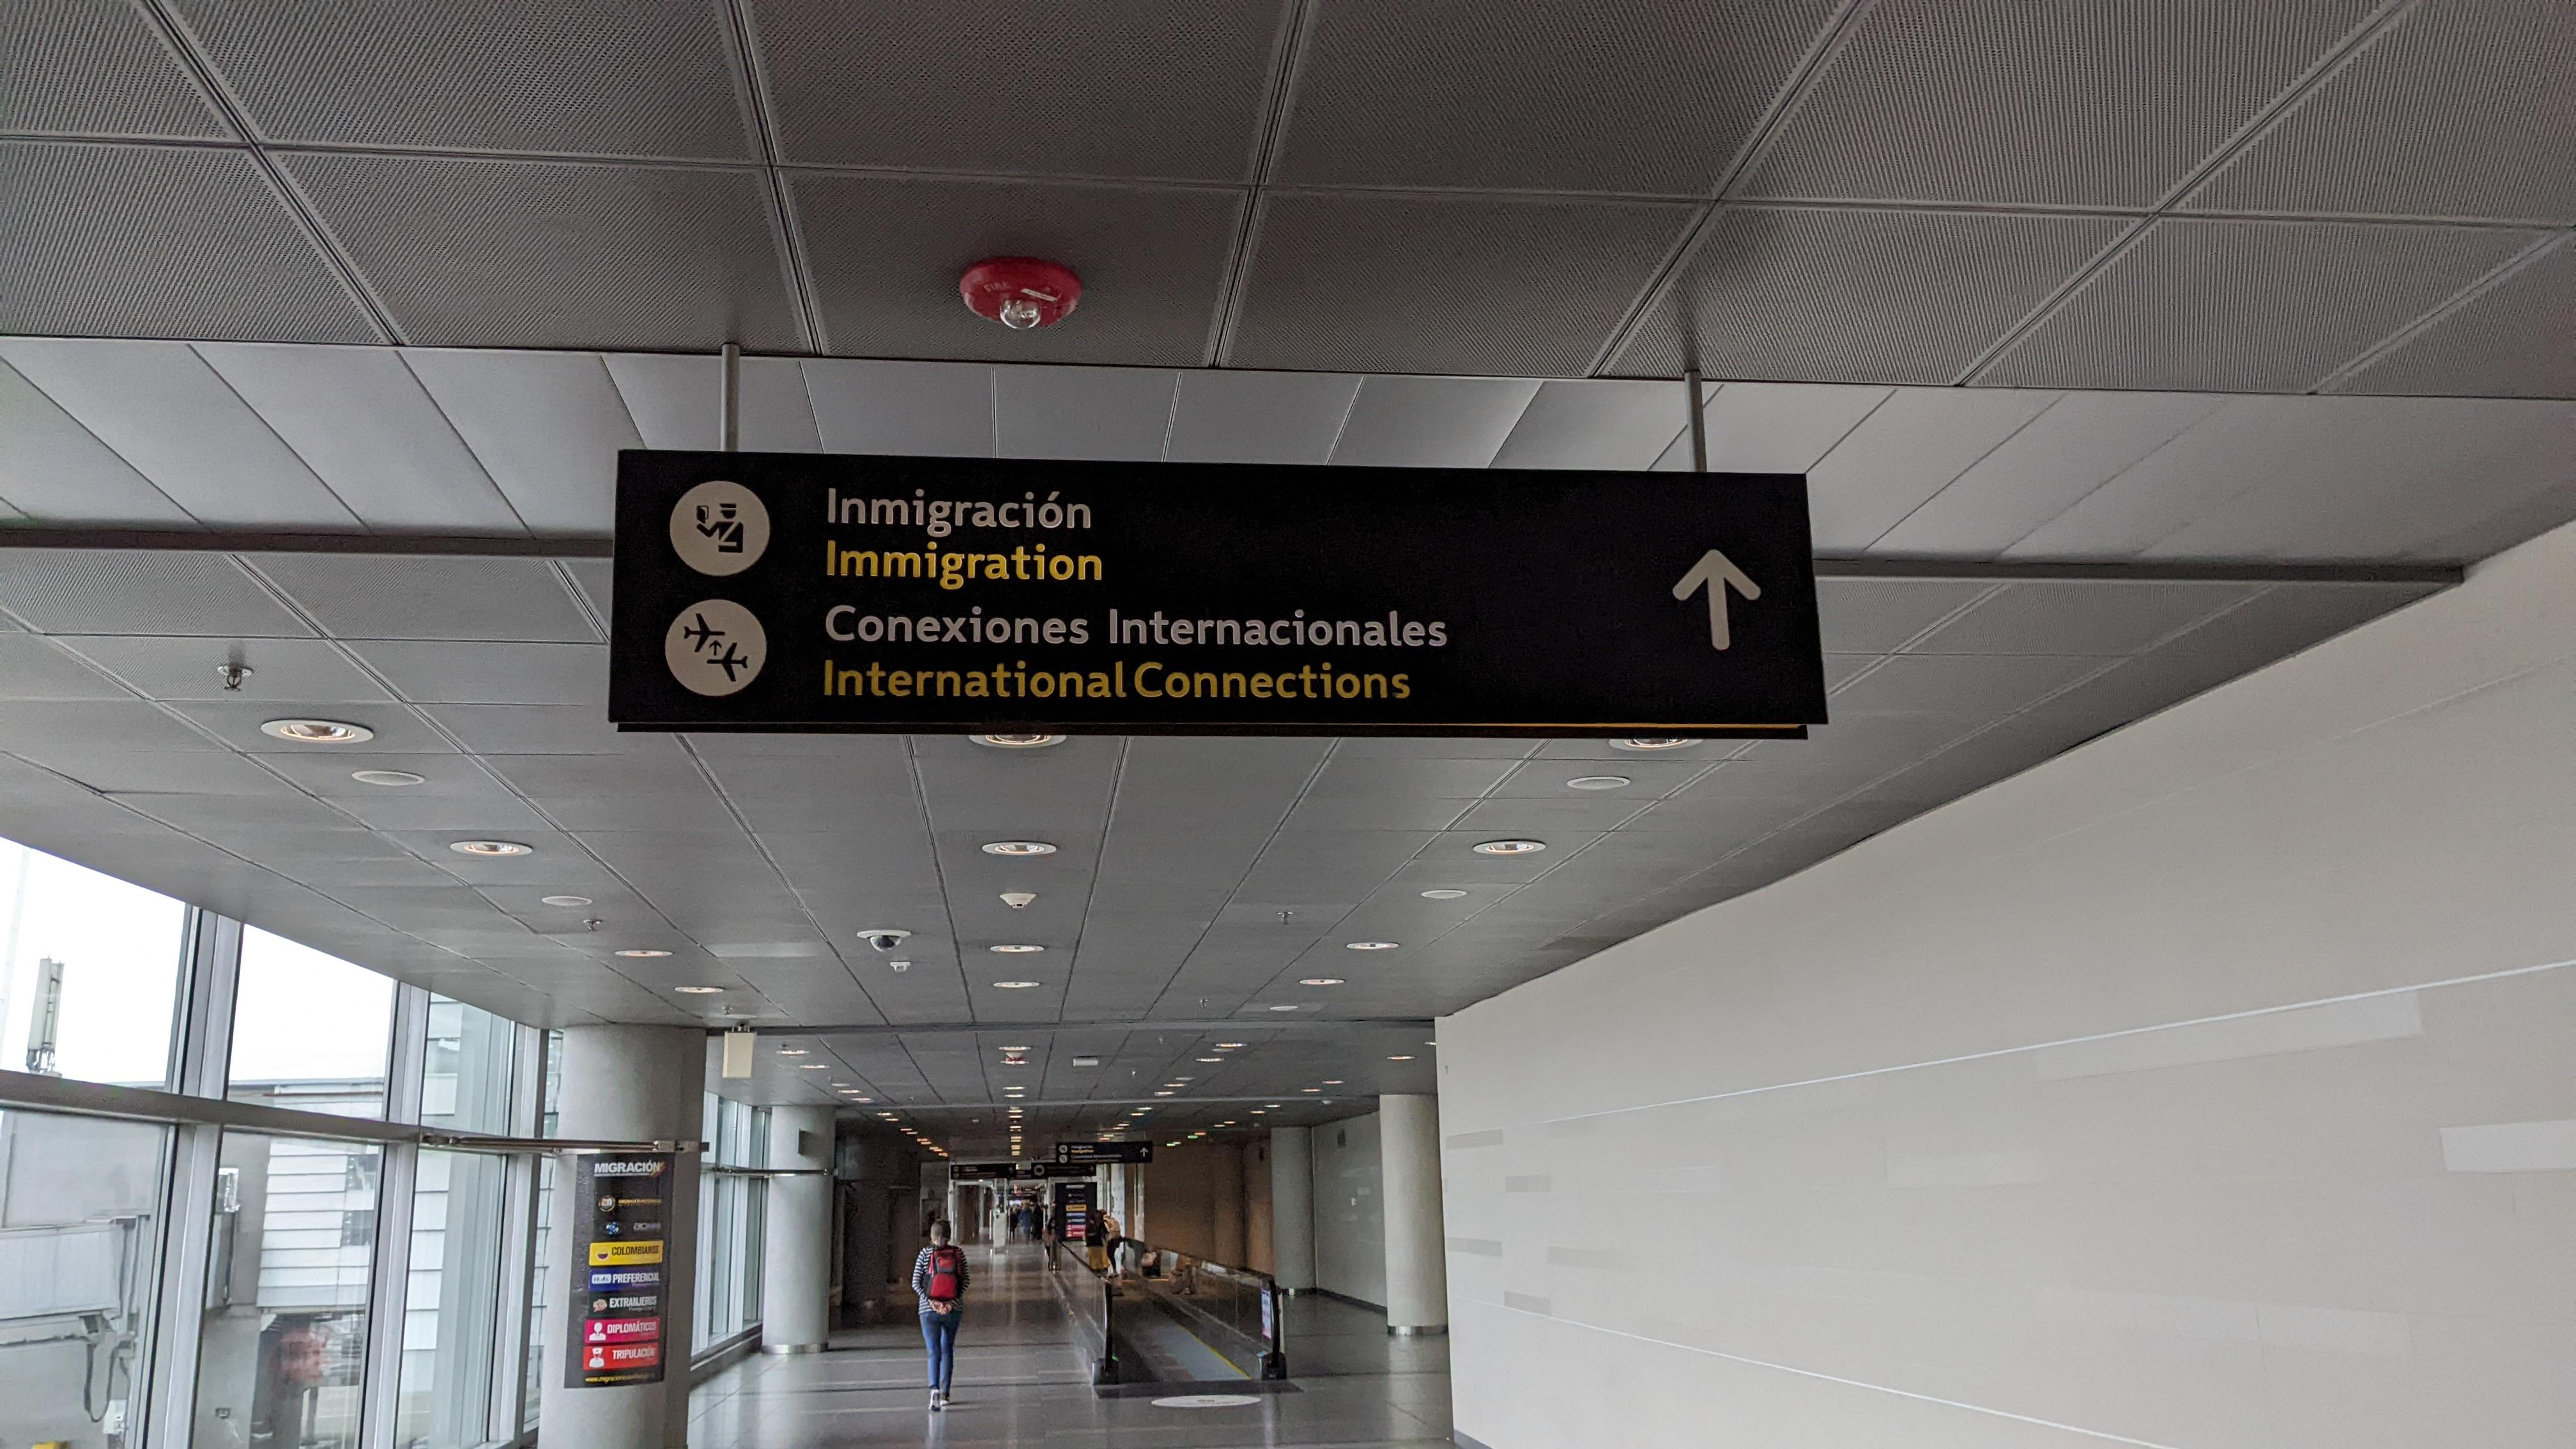up arrow: (1667, 540, 1767, 660), (1139, 1146, 1148, 1157)
